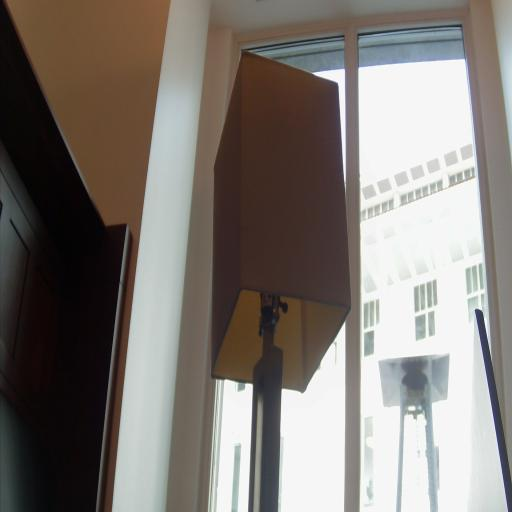lamp: (210, 50, 352, 512)
